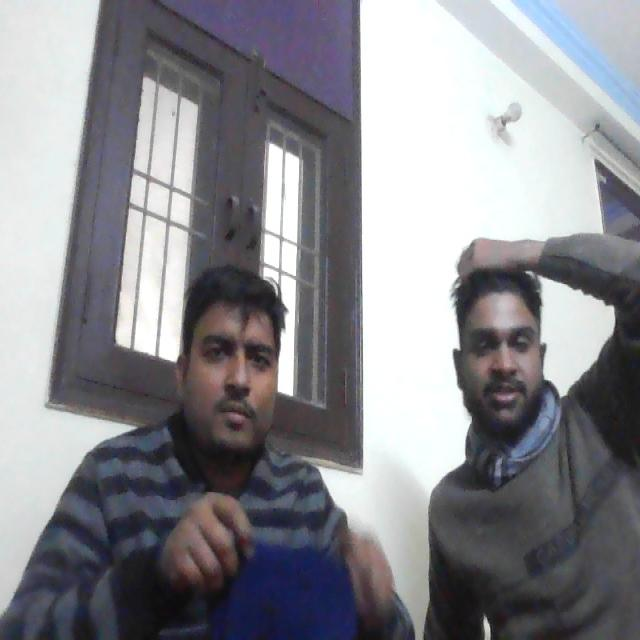real: (174, 250, 286, 462), (452, 247, 557, 445)
